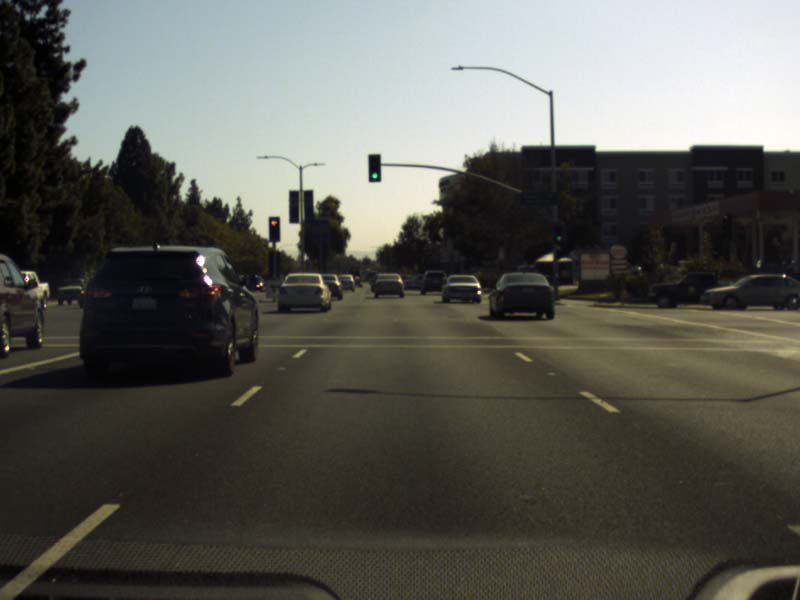Green: (368, 154, 380, 182), (554, 224, 563, 243)
Red: (269, 216, 279, 240)
